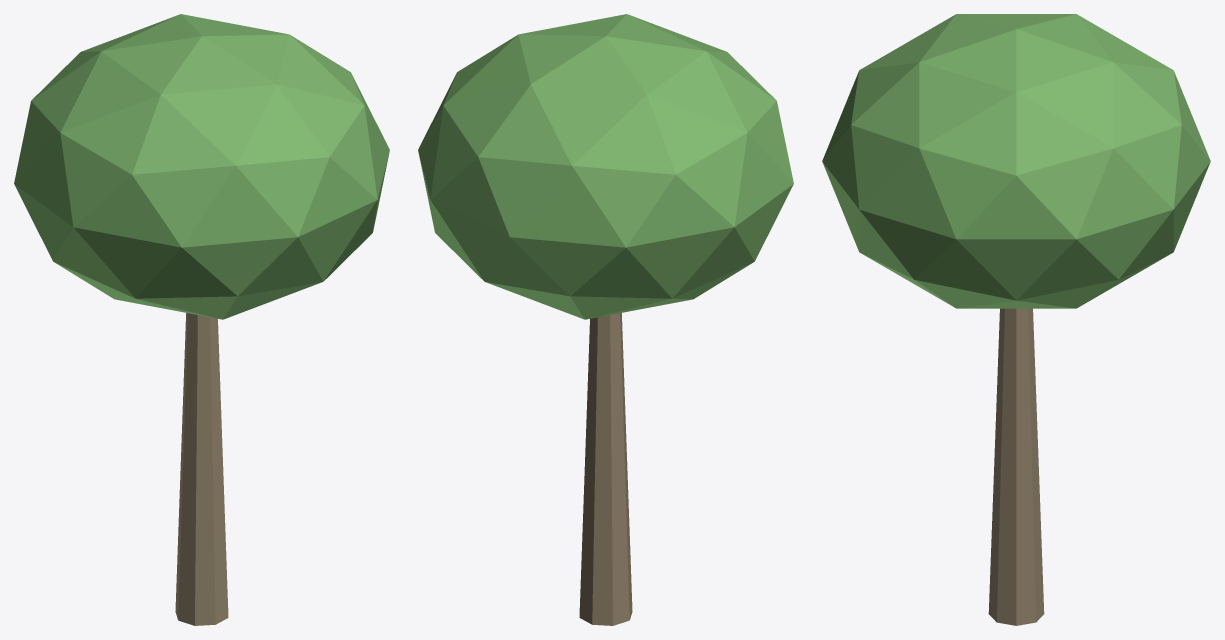
The model's file is willow.glb.
The picture shows the model from 3 angles, left to right: view 1: azimuth 30°, elevation 25°; view 2: azimuth 150°, elevation 25°; view 3: azimuth 270°, elevation 25°; orthographic projection.
Parts seen in each view (by area): view 1: Willow; view 2: Willow; view 3: Willow.
Part boxes in pixels (x1,y1,x2,y2): Willow: [14, 14, 389, 625]; Willow: [418, 14, 793, 625]; Willow: [822, 14, 1210, 625].
Size of the model in its own units: 1.33 by 2.32 by 1.4.
